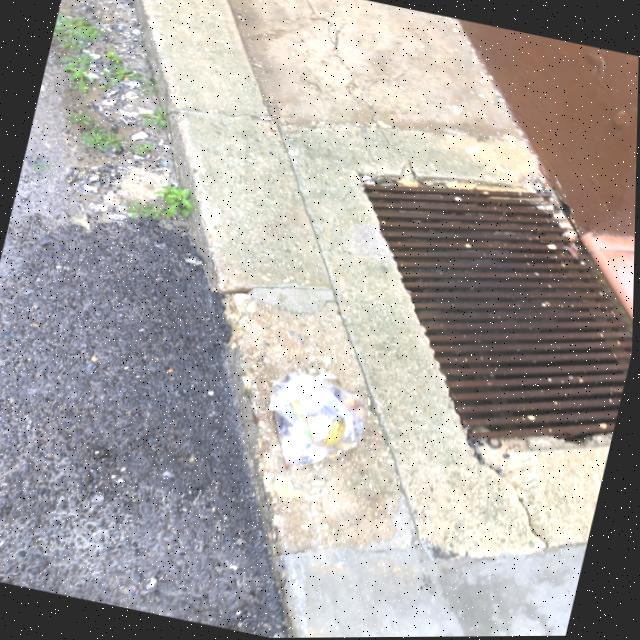Organic Waste -White Bag-: (256, 362, 385, 476)
